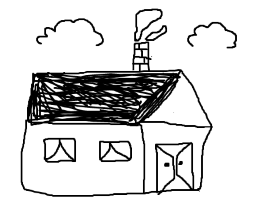clouds: (35, 16, 104, 47), (186, 21, 238, 48)
door: (151, 138, 198, 196)
open_window: (40, 135, 80, 168), (95, 137, 135, 166)
shaded_roof: (26, 69, 211, 127)
smoking_chimney: (126, 6, 171, 75)
wall: (19, 121, 148, 199)
